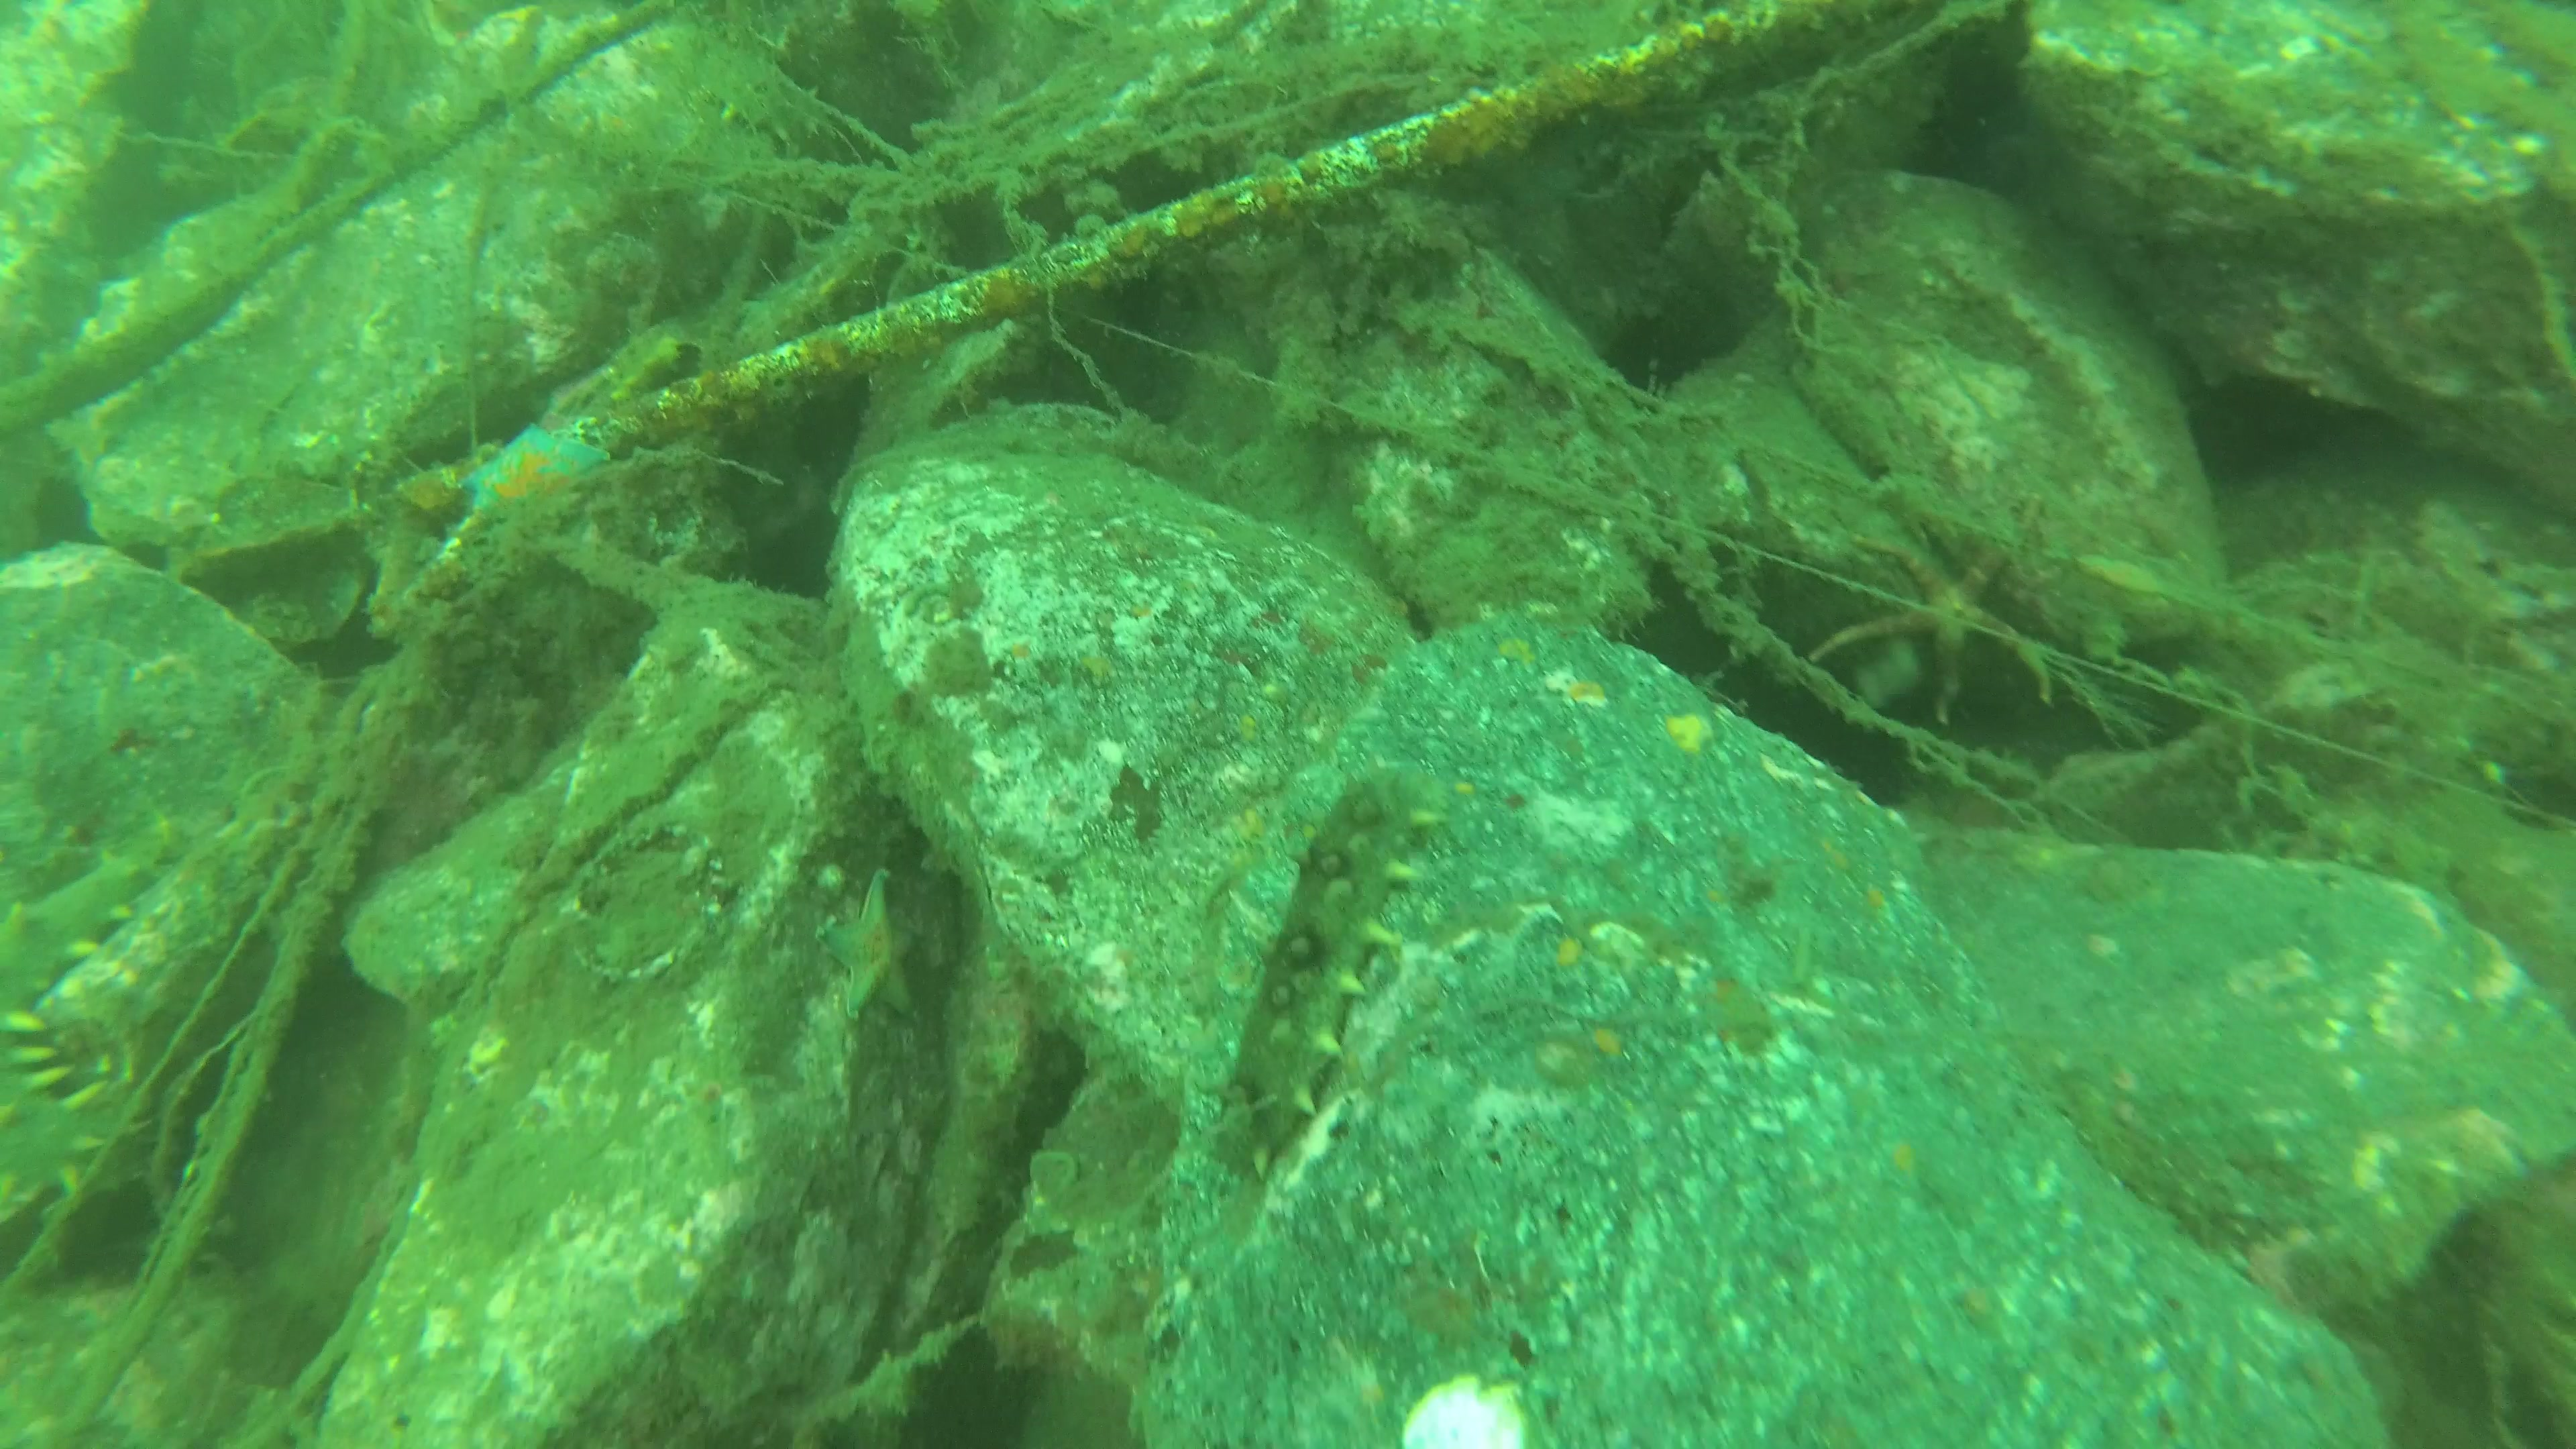holothurian: (1207, 761, 1438, 1166), (0, 833, 186, 1235), (626, 30, 835, 147)
starfish: (1813, 488, 2054, 731), (817, 874, 920, 1028), (462, 426, 616, 525)
